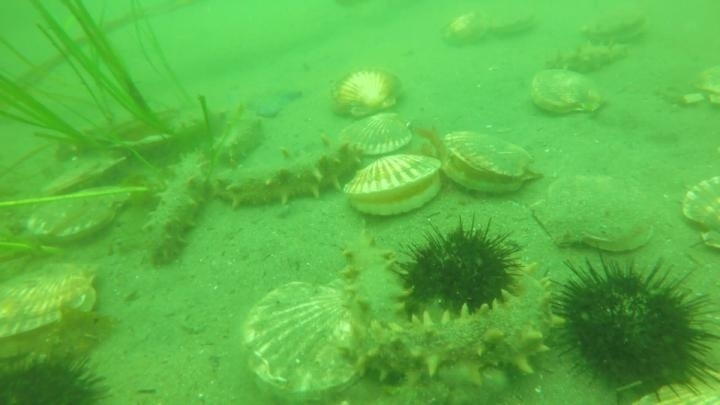echinus: (548, 253, 719, 401), (393, 215, 527, 325), (1, 347, 113, 404)
holothurian: (334, 260, 560, 387), (334, 231, 417, 381), (213, 135, 369, 212), (143, 148, 213, 268), (207, 98, 267, 168), (543, 39, 630, 78), (148, 107, 220, 154), (578, 11, 651, 50)
scallop: (236, 275, 367, 401), (528, 170, 662, 257), (1, 258, 102, 360), (339, 150, 447, 221), (437, 127, 543, 199), (11, 186, 131, 249), (38, 149, 129, 199), (330, 65, 406, 123), (526, 67, 607, 119), (336, 111, 417, 160), (678, 173, 720, 255), (486, 4, 542, 41), (445, 7, 489, 44), (690, 61, 720, 114)
starfish: (242, 83, 305, 121)
